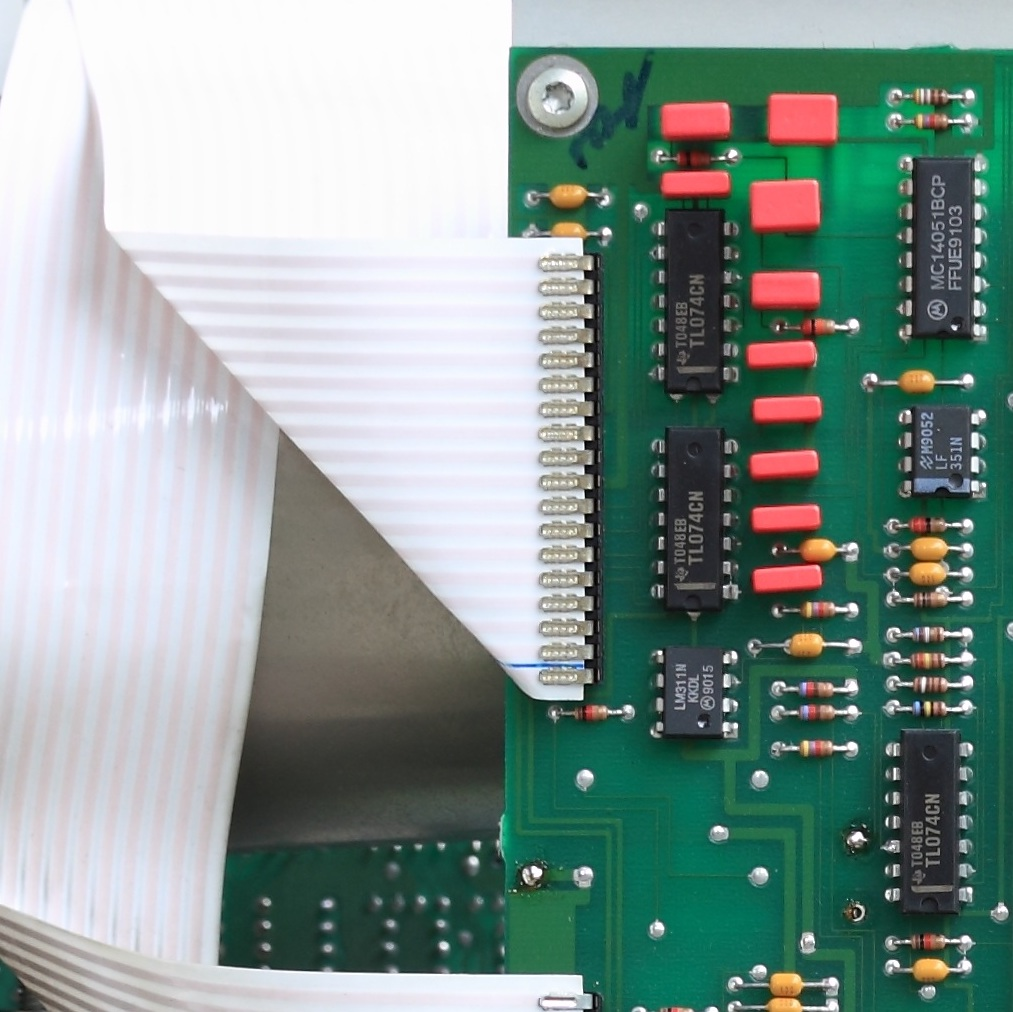Resistor: (561, 700, 620, 729), (900, 647, 958, 676), (905, 81, 958, 110), (905, 925, 953, 956), (794, 596, 845, 625), (904, 109, 960, 134), (790, 736, 842, 762), (793, 313, 844, 339), (904, 620, 955, 645), (903, 697, 955, 721), (792, 677, 841, 701), (906, 673, 956, 695), (906, 589, 953, 612), (904, 514, 952, 536), (791, 702, 840, 723), (668, 148, 724, 166)
